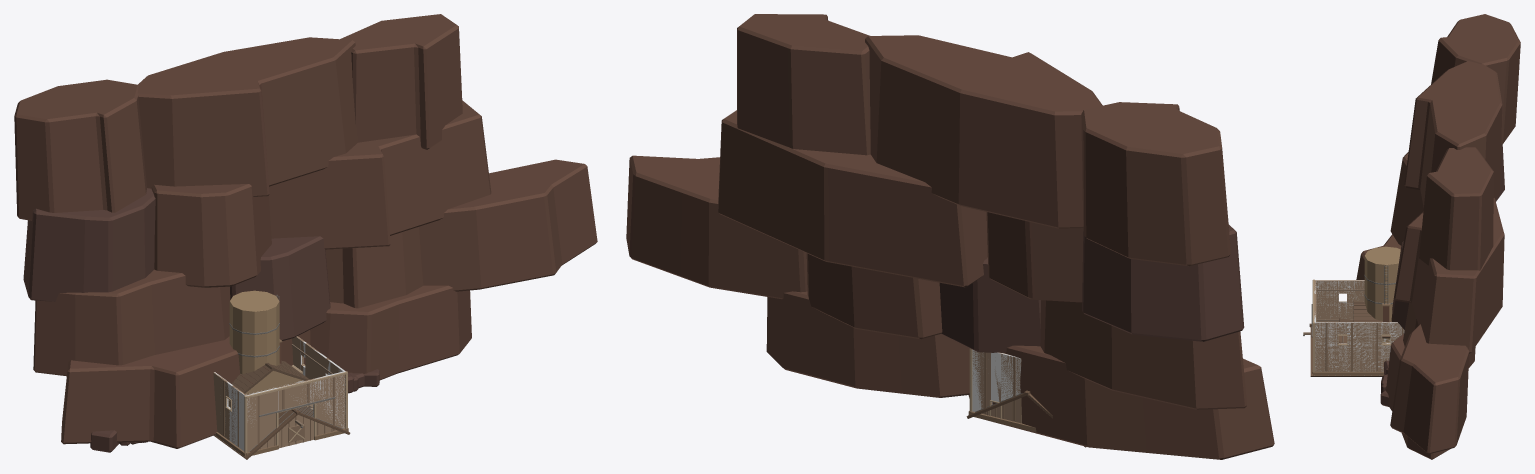
Rendered from props.glb.
3 renders of one model, left to right at view 1: azimuth 30°, elevation 25°; view 2: azimuth 150°, elevation 25°; view 3: azimuth 270°, elevation 25°, orthographic. The views are drawn at different scales.
Visible parts, largest first — view 1: Cliff, Barn, SiloBody, BarnRoof, BarnCol, House; view 2: Cliff, Barn, BarnCol, BarnRoof; view 3: Cliff, Barn, BarnCol, SiloBody, House, BarnRoof.
Part boxes in pixels (x1,y1,x2,y2): Cliff: [14, 14, 597, 452]; Barn: [213, 336, 348, 456]; SiloBody: [229, 290, 279, 373]; BarnRoof: [213, 405, 350, 459]; BarnCol: [214, 340, 345, 450]; House: [228, 339, 309, 407]; Cliff: [626, 14, 1274, 459]; Barn: [968, 348, 1036, 431]; BarnCol: [972, 349, 1021, 411]; BarnRoof: [966, 390, 1085, 447]; Cliff: [1356, 14, 1520, 459]; Barn: [1311, 279, 1404, 375]; BarnCol: [1314, 280, 1404, 371]; SiloBody: [1364, 246, 1400, 320]; House: [1339, 301, 1391, 343]; BarnRoof: [1303, 323, 1382, 376].
Size of the model in its own units: 76.97 by 41.95 by 30.19.
